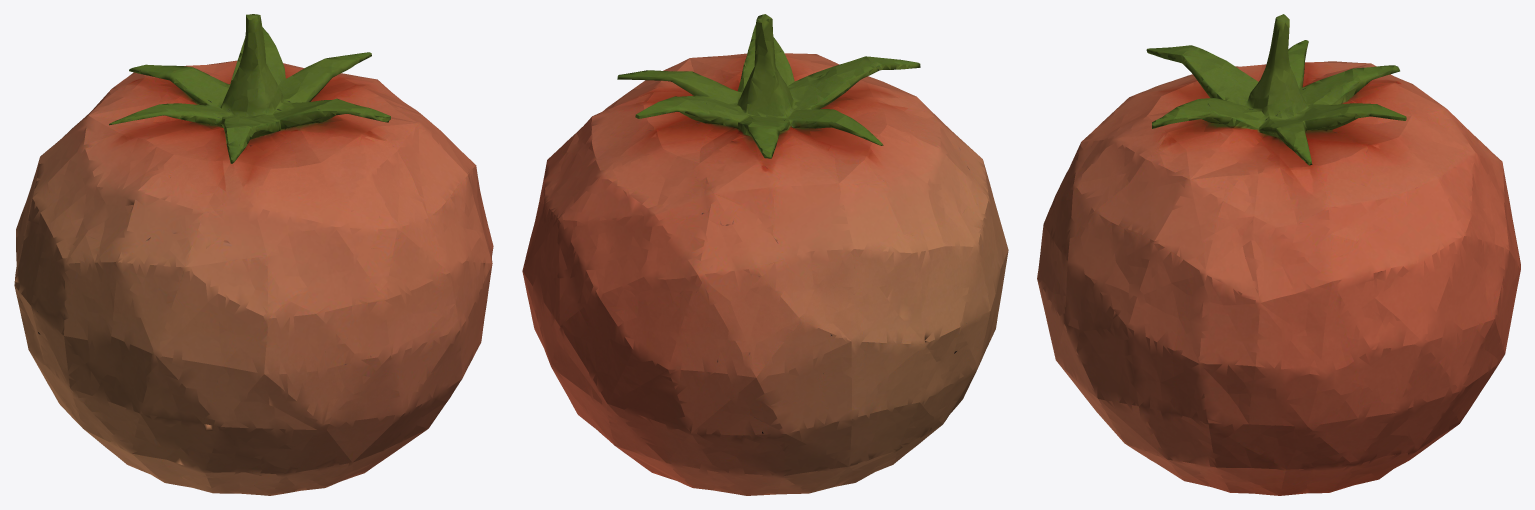
Rendered from new_tomato_1.fbx.
The picture shows the model from 3 angles, left to right: view 1: azimuth 30°, elevation 25°; view 2: azimuth 150°, elevation 25°; view 3: azimuth 270°, elevation 25°; orthographic projection.
Parts seen in each view (by area): view 1: tripo_node_e9d8b4b2; view 2: tripo_node_e9d8b4b2; view 3: tripo_node_e9d8b4b2.
Boxes of the visible parts, x1=… form: tripo_node_e9d8b4b2: x1=14, y1=14, x2=493, y2=495; tripo_node_e9d8b4b2: x1=522, y1=14, x2=1008, y2=495; tripo_node_e9d8b4b2: x1=1037, y1=14, x2=1520, y2=495.
Bounding box in the file's own units: 96.16 × 98 × 96.46.
Materials: 1 (1 with a texture image).
